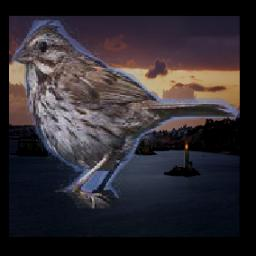Sparrow: (11, 16, 239, 209)
